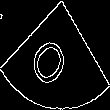O_NE: (31, 22, 79, 88)
